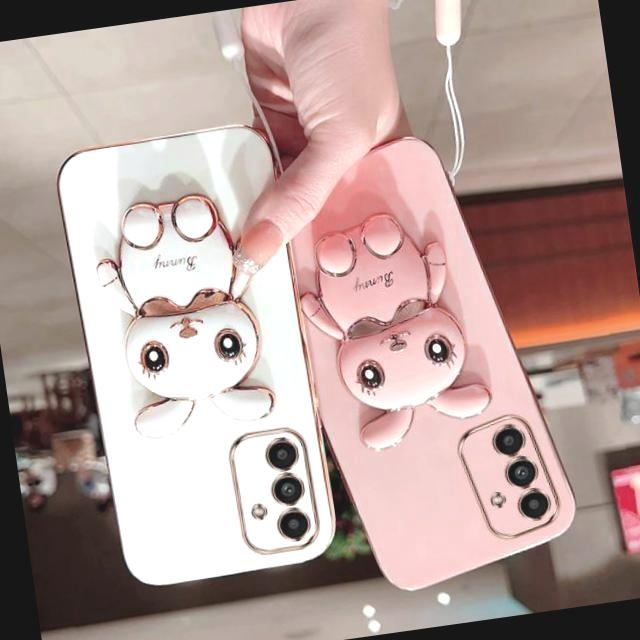lens: (250, 428, 316, 544), (492, 418, 556, 536)
phone: (281, 121, 594, 608), (48, 115, 342, 597)
